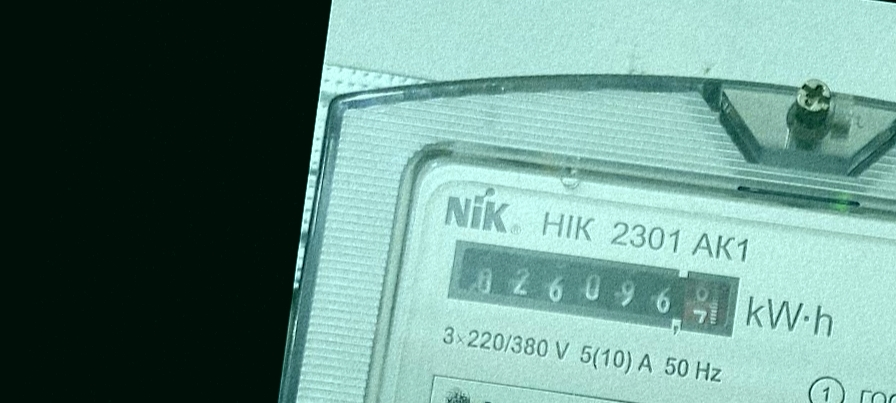0: (580, 270, 605, 307), (473, 264, 497, 298)
2: (509, 264, 534, 302)
6: (545, 271, 568, 309), (653, 283, 675, 318), (691, 278, 714, 307)
7: (689, 307, 710, 330)
9: (616, 278, 639, 312)
screen: (436, 230, 749, 351)
